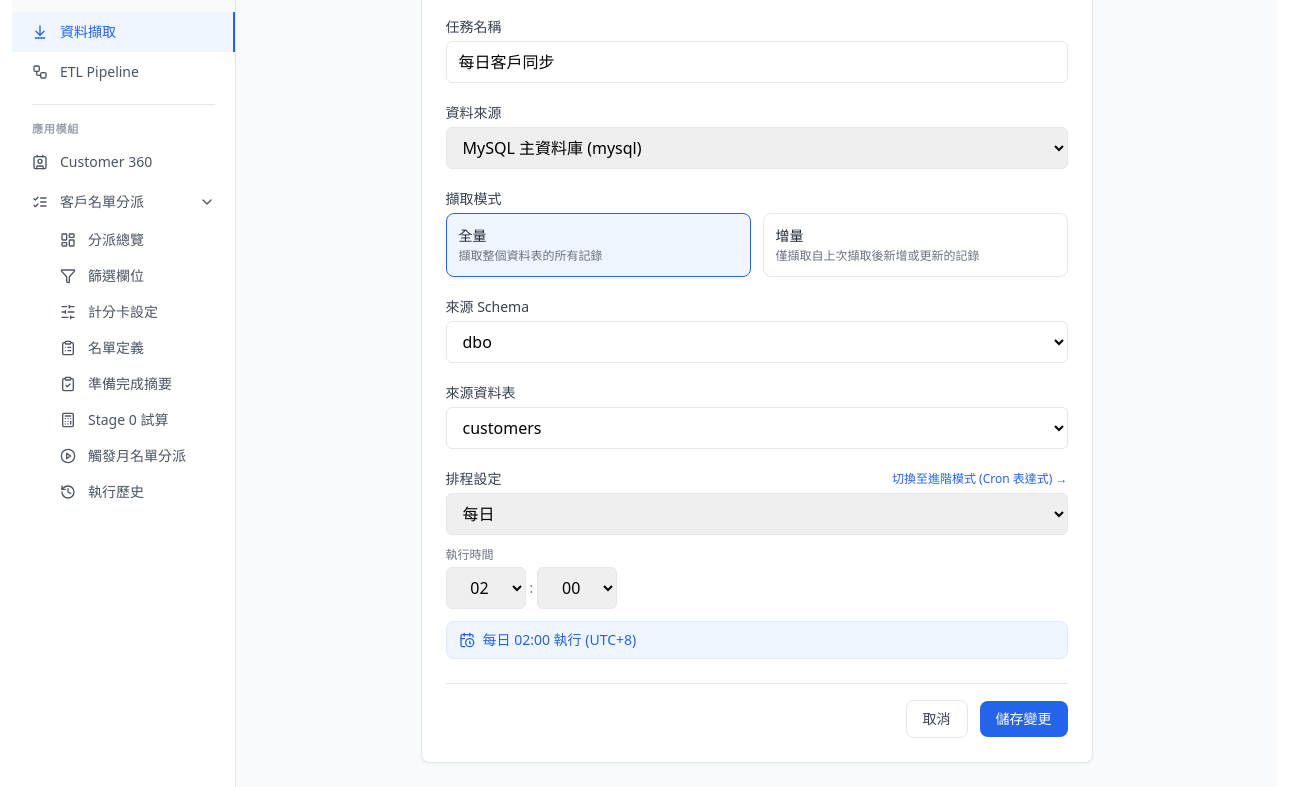
Test case: EditExtractionTaskPage › 錯誤處理 › should show error toast when update fails with 409 EXTRACTION_RUNNING
(page scrolled)
Expected: the field labelled "任務名稱" holds "每日客戶同步", [446, 41, 1068, 83]
Step 1. Click the button "儲存變更" → [1024, 719], box [980, 701, 1068, 737]
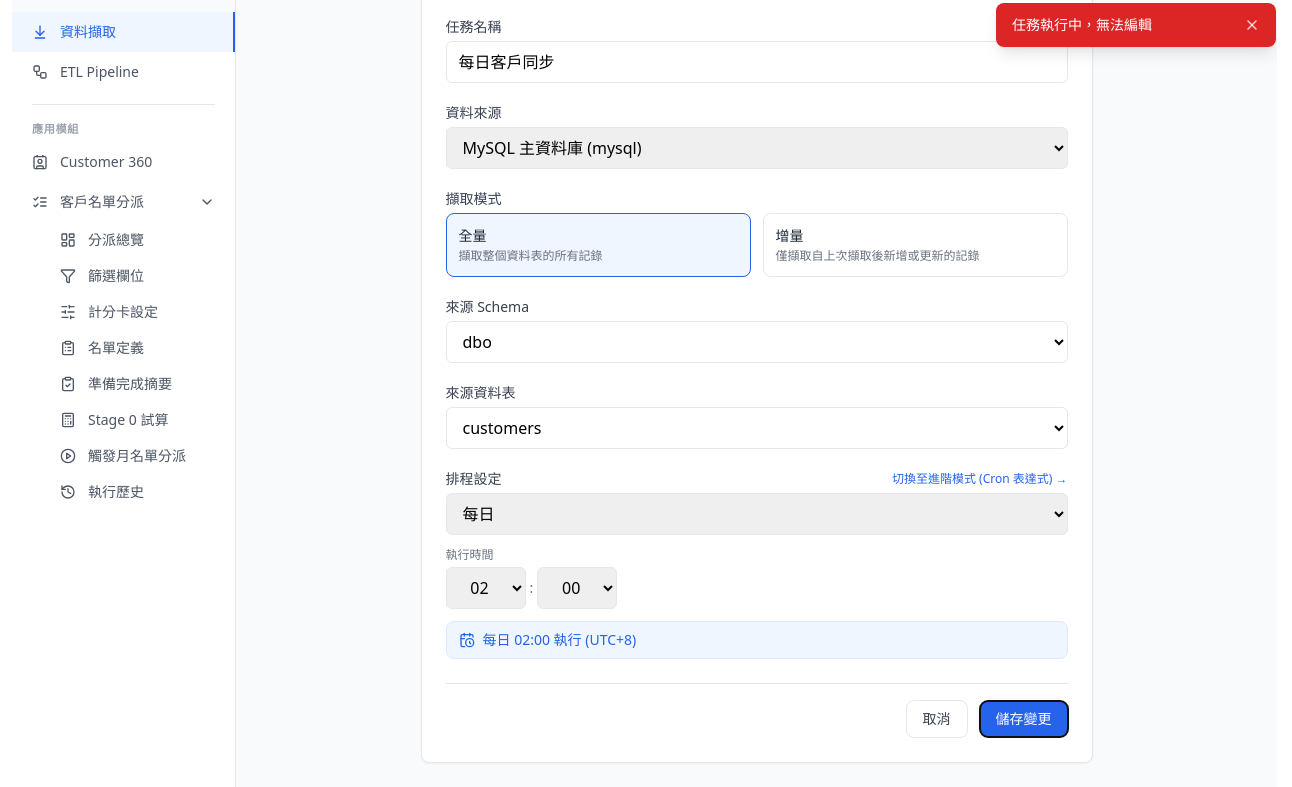
Now the text "任務執行中，無法編輯" is shown, box [1012, 15, 1152, 34]
